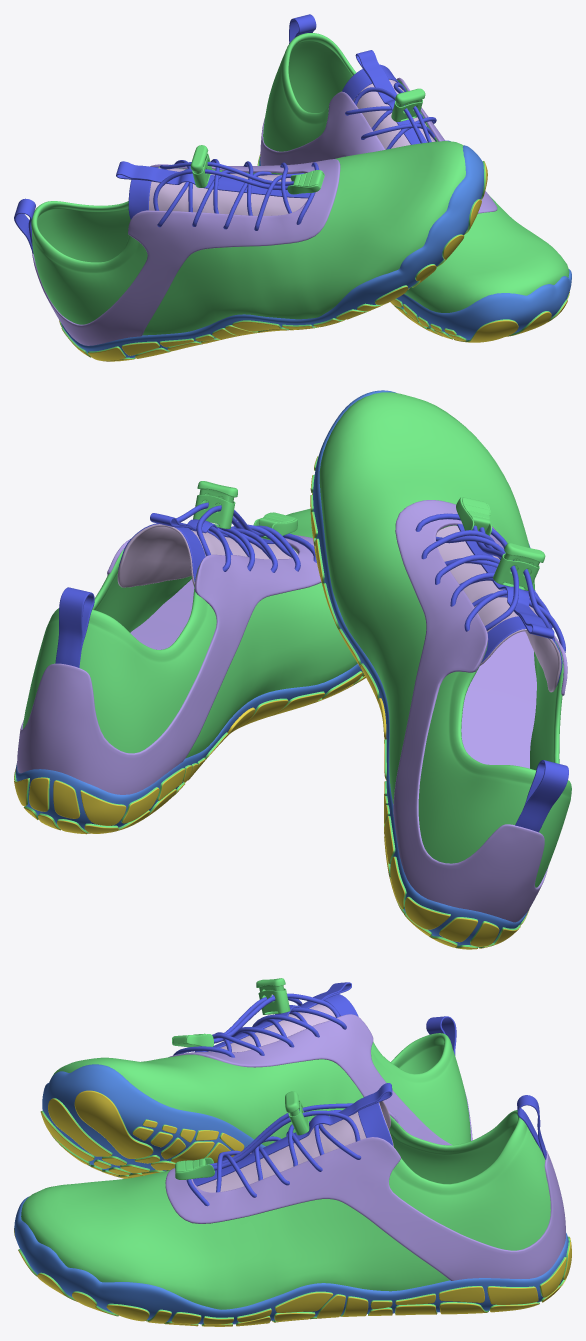
The model's file is pair_stacked_shoe1.glb.
3 renders of one model, top to bottom at view 1: azimuth 30°, elevation 25°; view 2: azimuth 150°, elevation 25°; view 3: azimuth 270°, elevation 25°, orthographic. The views are drawn at different scales.
Visible parts, largest first — view 1: GERRIT_Material #25_0.005, GERRIT_Material #25_0.002, GERRIT_Material #25_0.006, GERRIT_Material #25_0.003; view 2: GERRIT_Material #25_0.005, GERRIT_Material #25_0.002, GERRIT_Material #25_0.003, GERRIT_Material #25_0.006; view 3: GERRIT_Material #25_0.002, GERRIT_Material #25_0.005, GERRIT_Material #25_0.003, GERRIT_Material #25_0.006.
Boxes of the visible parts, <box> form: GERRIT_Material #25_0.005: <box>14,141,485,360</box>; GERRIT_Material #25_0.002: <box>258,14,569,341</box>; GERRIT_Material #25_0.006: <box>59,145,487,361</box>; GERRIT_Material #25_0.003: <box>257,79,571,342</box>; GERRIT_Material #25_0.005: <box>311,392,571,947</box>; GERRIT_Material #25_0.002: <box>14,502,364,832</box>; GERRIT_Material #25_0.003: <box>14,481,365,834</box>; GERRIT_Material #25_0.006: <box>310,390,561,949</box>; GERRIT_Material #25_0.002: <box>18,1083,570,1325</box>; GERRIT_Material #25_0.005: <box>41,982,472,1176</box>; GERRIT_Material #25_0.003: <box>14,1091,571,1326</box>; GERRIT_Material #25_0.006: <box>40,978,335,1178</box>.
Bounding box in the file's own units: 0.231 × 0.1374 × 0.245.
